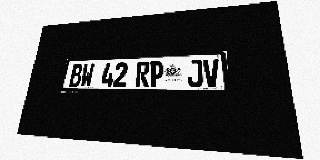2: (113, 62, 128, 87)
4: (101, 63, 115, 87)
B: (69, 64, 83, 87)
J: (187, 59, 203, 87)
P: (149, 61, 164, 87)
R: (135, 61, 150, 87)
V: (203, 59, 220, 87)
W: (80, 63, 95, 87)
